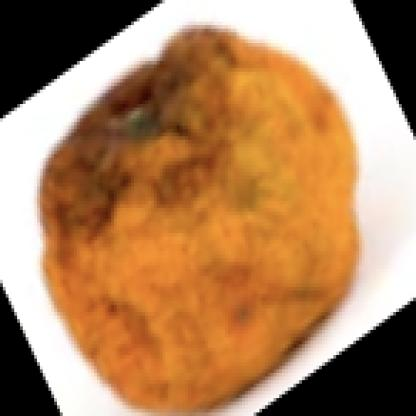rotten: (41, 26, 362, 416)
